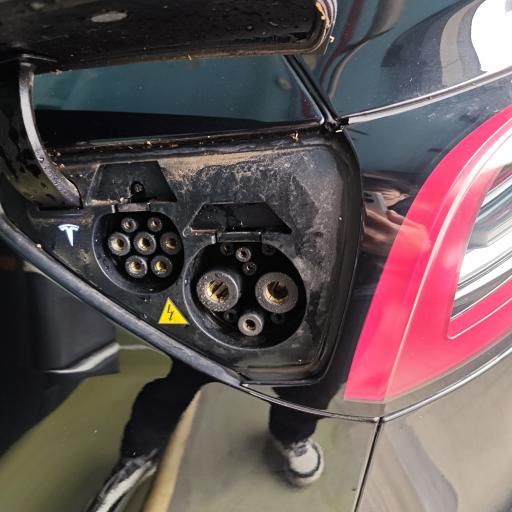AC_charging_hole: (92, 209, 186, 296)
DC_charging_port: (182, 237, 312, 352)
DC_hole: (253, 270, 300, 314), (196, 269, 240, 313)
PE: (237, 313, 264, 338)
